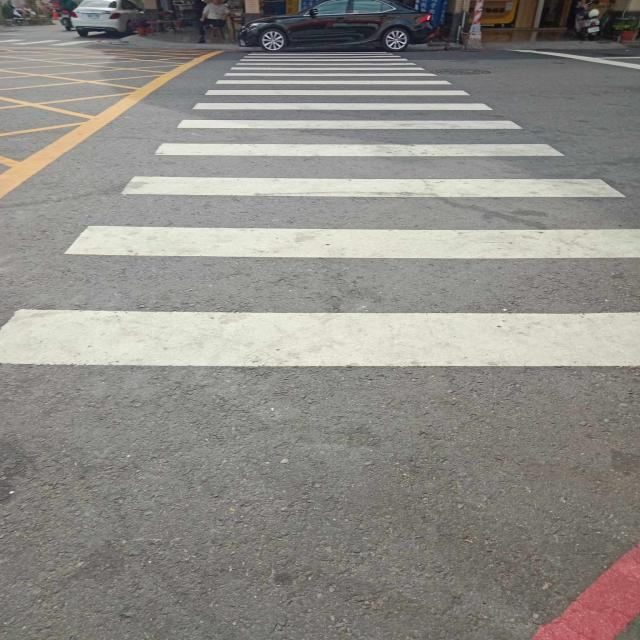zebra crossing: (0, 51, 640, 368)
